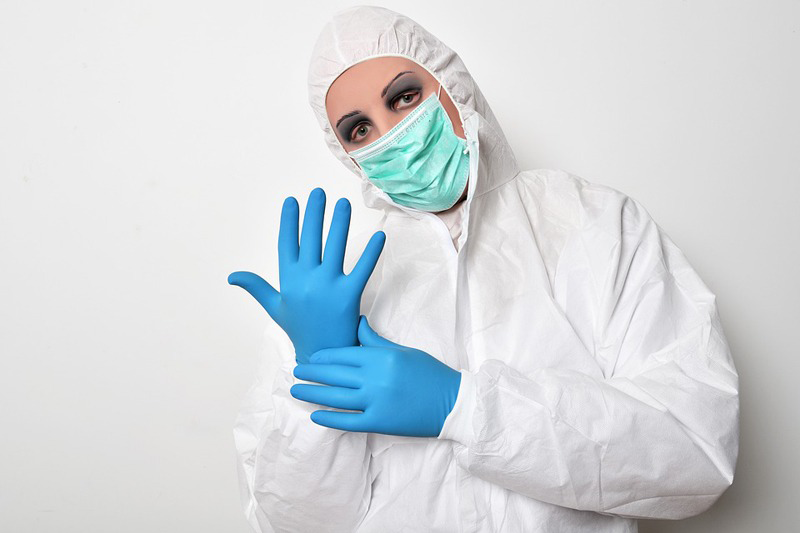Coverall: (243, 36, 740, 527)
Gloves: (227, 189, 386, 378), (289, 316, 461, 439)
with_mask: (336, 91, 475, 212)
